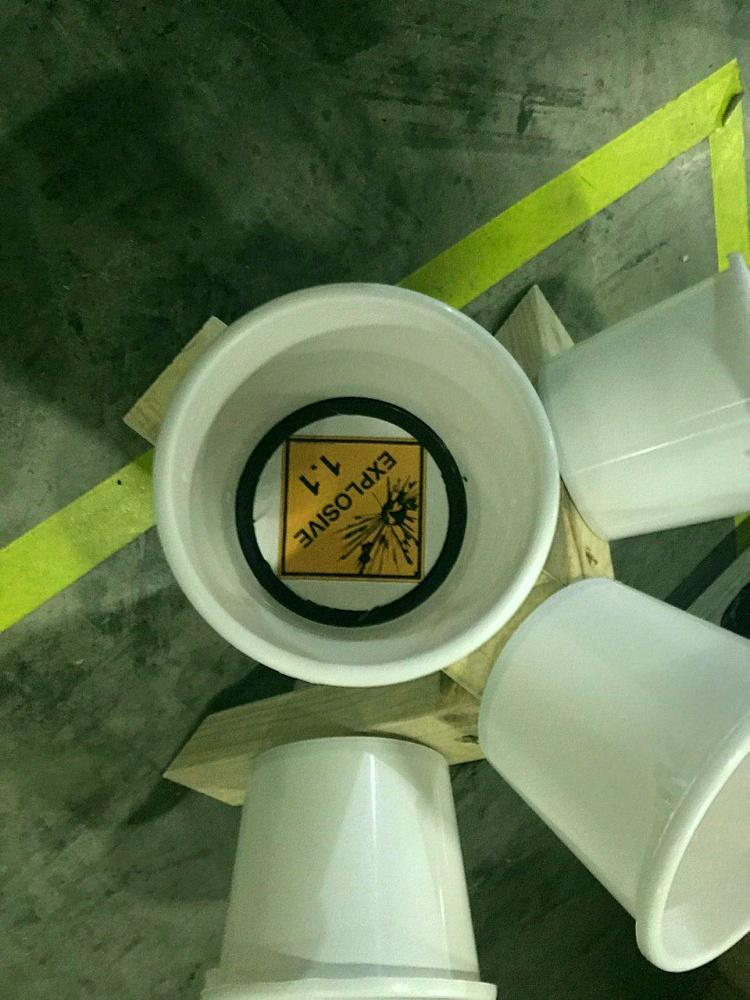explosive: (281, 431, 431, 586)
